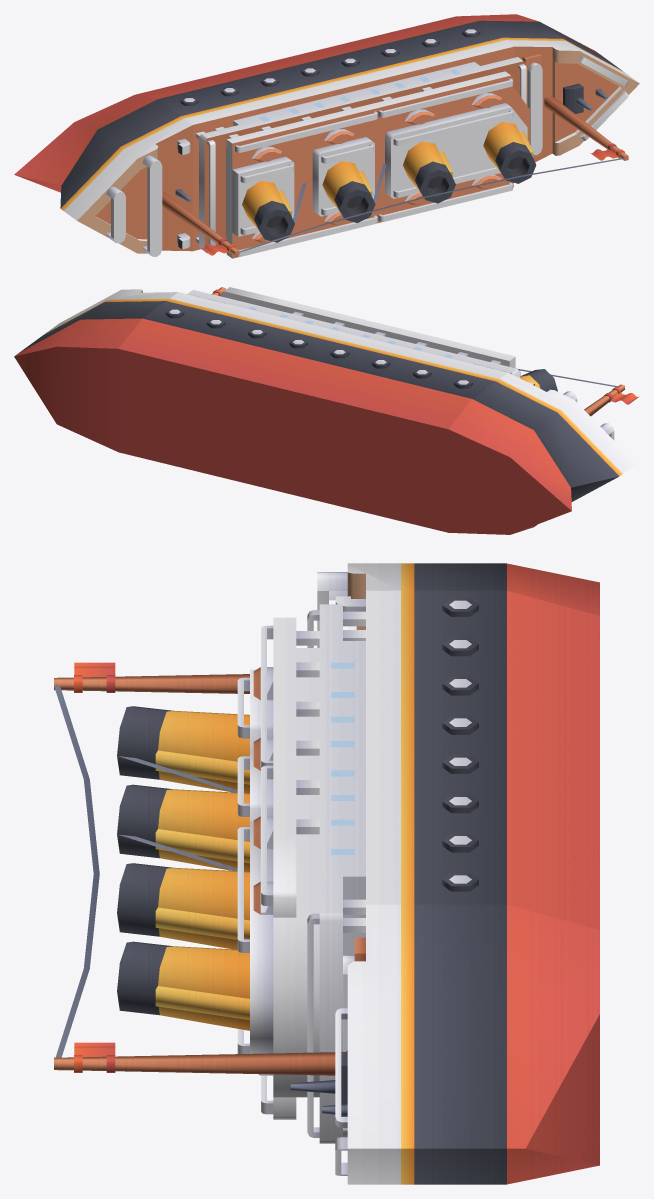
File: kenney-ship-ocean-liner.glb
The picture shows the model from 3 angles, top to bottom: view 1: azimuth 30°, elevation 25°; view 2: azimuth 150°, elevation 25°; view 3: azimuth 270°, elevation 25°; orthographic projection. The views are drawn at different scales.
Visible parts, largest first — view 1: ship-ocean-liner; view 2: ship-ocean-liner; view 3: ship-ocean-liner.
Part boxes in pixels (x1=…): ship-ocean-liner: x1=14, y1=14, x2=639, y2=258; ship-ocean-liner: x1=14, y1=287, x2=639, y2=534; ship-ocean-liner: x1=54, y1=563, x2=599, y2=1184.
Bounding box in the file's own units: 21.28 × 4.76 × 8.93.
1 material, 1 textured.
